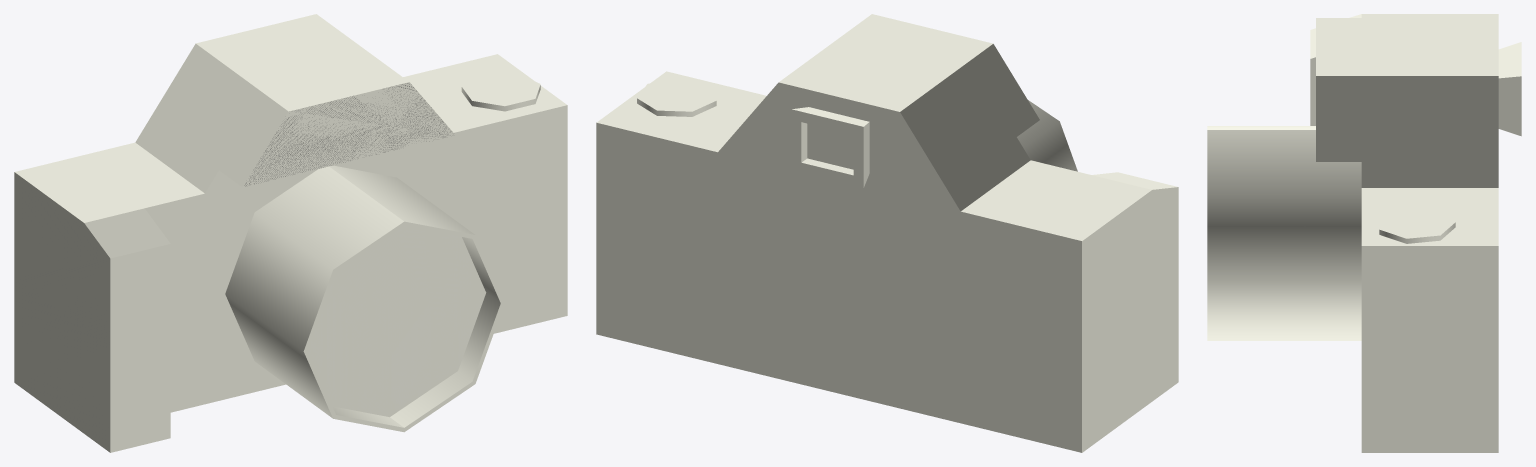
File: model_align.obj
3 views of the same model, side by side, from view 1: azimuth 30°, elevation 25°; view 2: azimuth 150°, elevation 25°; view 3: azimuth 270°, elevation 25° (orthographic). The views are drawn at different scales.
Parts seen in each view (by area): view 1: mesh1_mesh1-geometry, mesh2_mesh2-geometry; view 2: mesh1_mesh1-geometry, mesh2_mesh2-geometry; view 3: mesh1_mesh1-geometry, mesh2_mesh2-geometry.
Boxes of the visible parts, x1,y1,x2,y2 form: mesh1_mesh1-geometry: [14, 14, 567, 452]; mesh2_mesh2-geometry: [225, 165, 504, 432]; mesh1_mesh1-geometry: [596, 14, 1178, 452]; mesh2_mesh2-geometry: [1017, 100, 1077, 171]; mesh1_mesh1-geometry: [1310, 14, 1521, 452]; mesh2_mesh2-geometry: [1207, 126, 1361, 340].
Bounding box in the file's own units: 0.1507 × 0.0879 × 0.0863.
